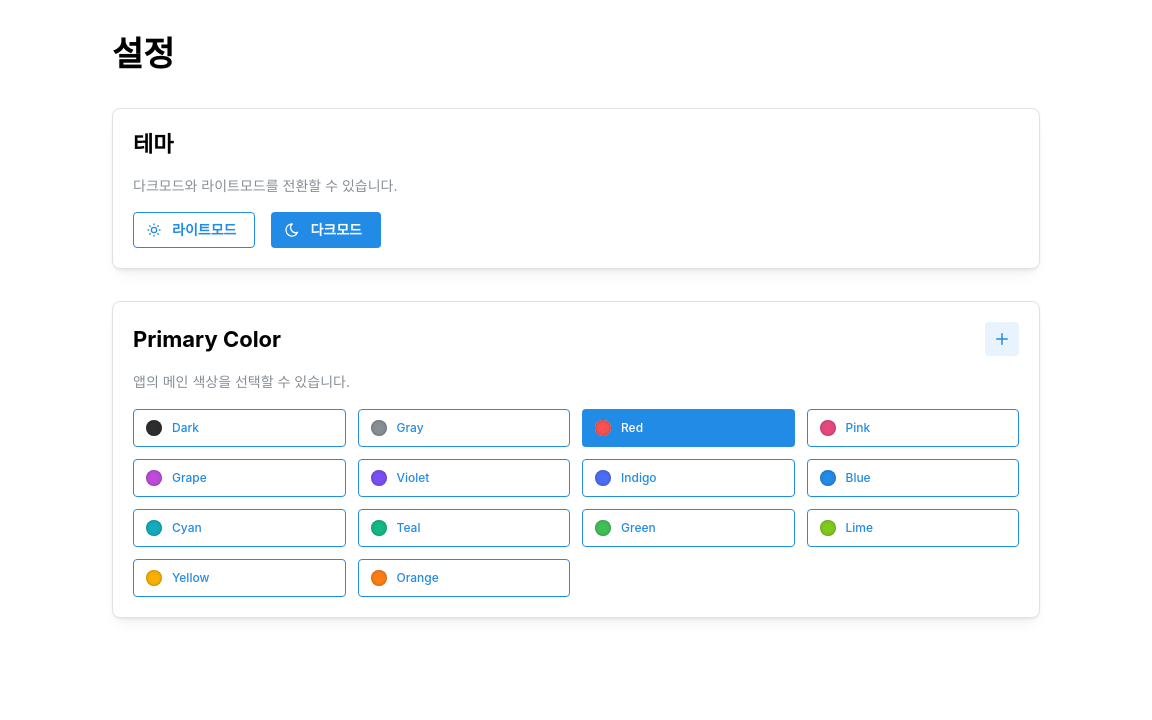
Scenario: SettingsPage › Primary Color 섹션 › 커스텀 색상 추가 버튼 클릭 시 모달이 열려야 한다
Click the button named "커스텀 색상 추가". click: point(1002, 339)
box: [985,322,1019,356]
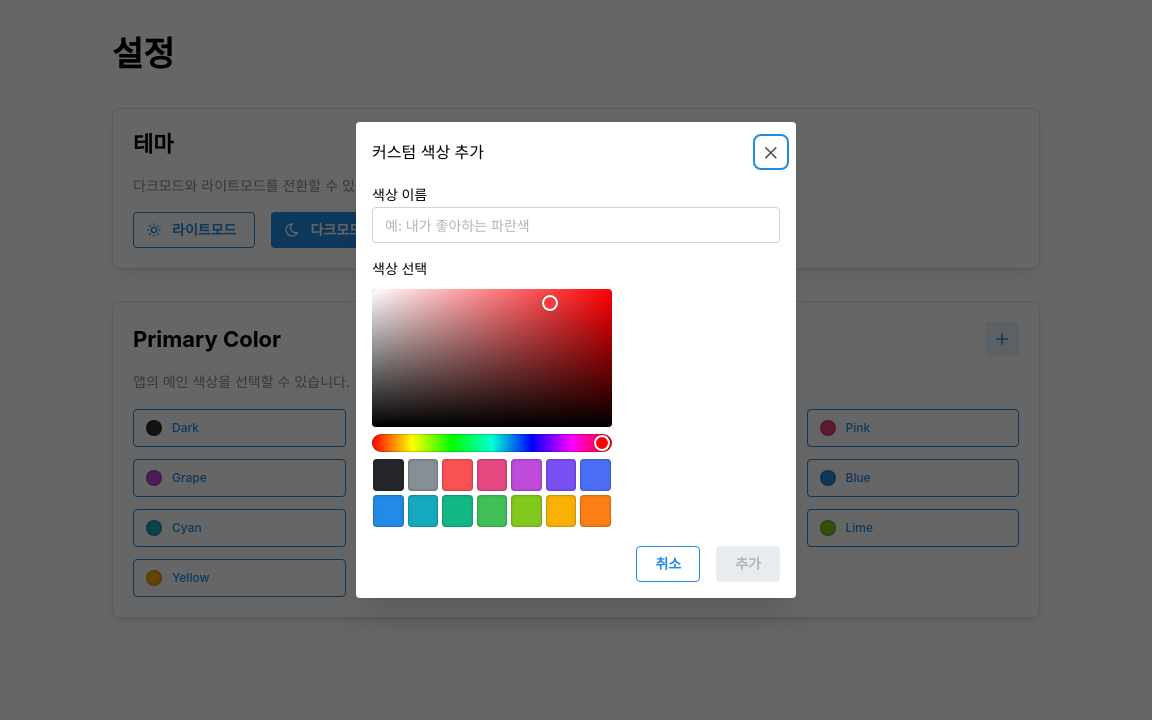
Now the heading "커스텀 색상 추가" is shown, box [372,144,484,160]
